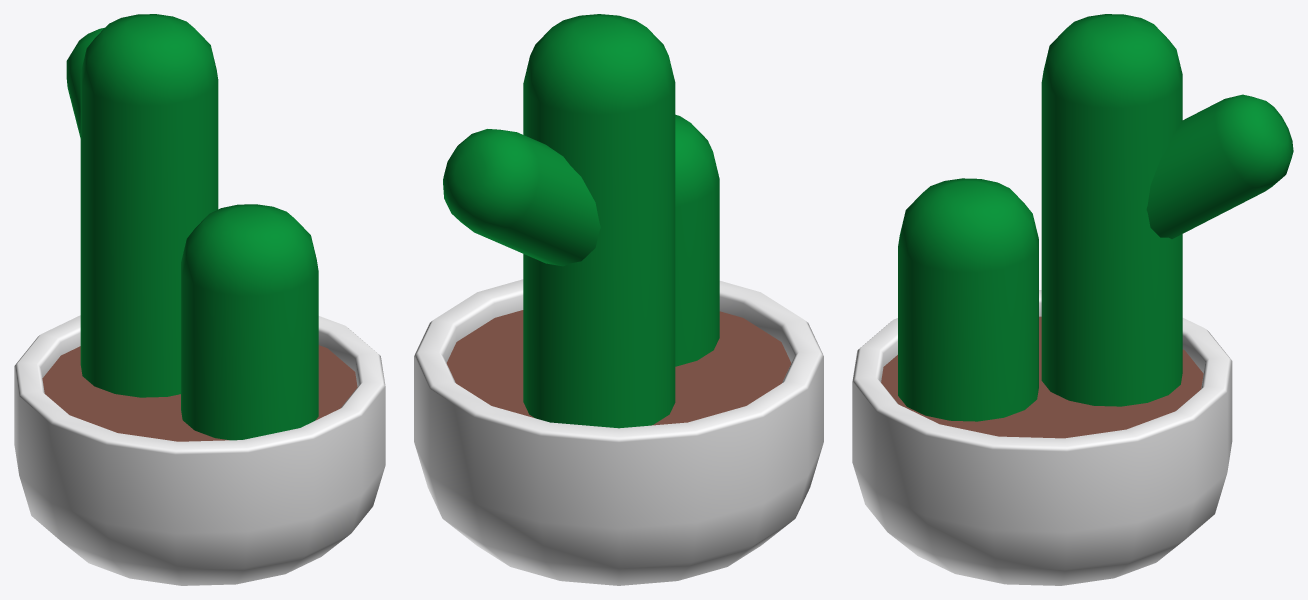
The model's file is Town_1_Plant_2.glb.
3 views of the same model, side by side, from view 1: azimuth 30°, elevation 25°; view 2: azimuth 150°, elevation 25°; view 3: azimuth 270°, elevation 25° (orthographic). The views are drawn at different scales.
Visible parts, largest first — view 1: Town_1_Plant_2; view 2: Town_1_Plant_2; view 3: Town_1_Plant_2.
Boxes of the visible parts, box(x1,y1,x2,y2) form: Town_1_Plant_2: box(14, 14, 385, 585); Town_1_Plant_2: box(414, 14, 823, 585); Town_1_Plant_2: box(852, 14, 1293, 585).
Size of the model in its own units: 0.321 by 0.4679 by 0.3728.
1 material, 1 textured.
